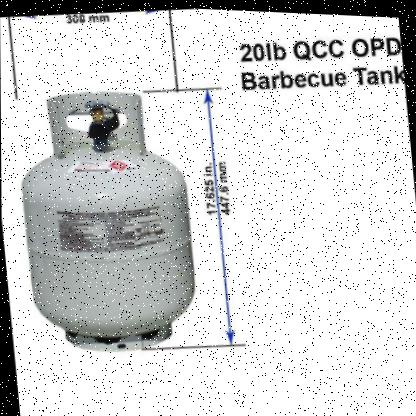gas-tank: (8, 67, 215, 368)
